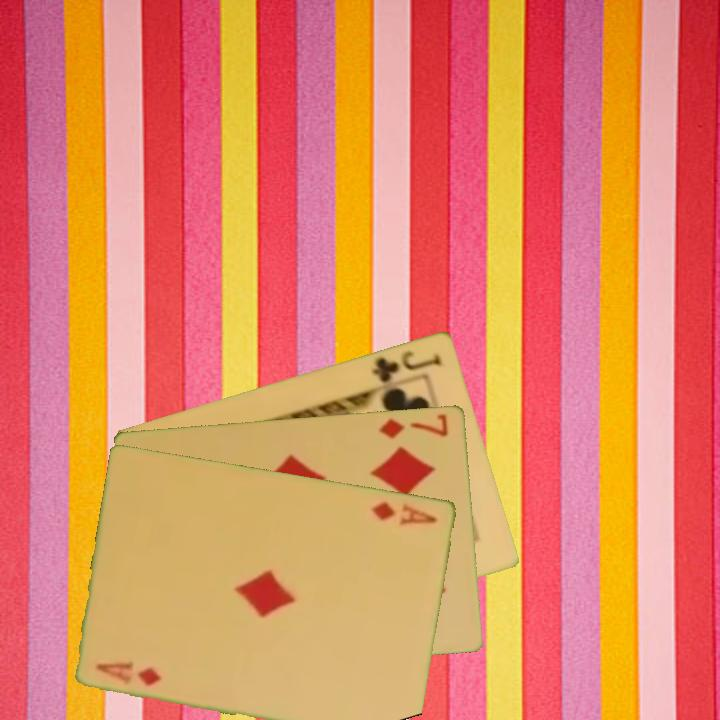7d: (375, 409, 451, 441)
Ad: (367, 497, 441, 528), (93, 658, 164, 689)
Jc: (368, 346, 444, 385)
